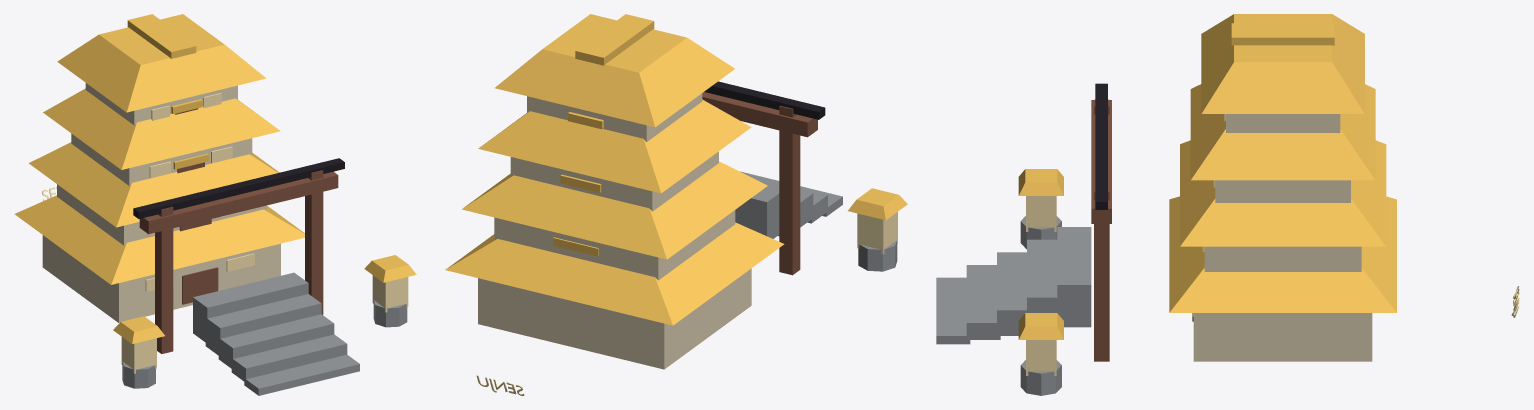
The model's file is 03_senju.glb.
3 views of the same model, side by side, from view 1: azimuth 30°, elevation 25°; view 2: azimuth 150°, elevation 25°; view 3: azimuth 270°, elevation 25° (orthographic). The views are drawn at different scales.
Parts seen in each view (by area): view 1: tier_3_roof, tier_0_roof.001, tier_2_roof.001, tier_1_roof.001, tier_0_body.001, torii_beam.002, stairs_4.002, stairs_3.002, stairs_2.002, stairs_1.002, torii_lintel.002, torii_post_L.002 (+14 smaller); view 2: tier_0_roof.001, tier_3_roof, tier_1_roof.001, tier_2_roof.001, tier_0_body.001, tier_1_body.001, torii_post_L.002, tier_2_body.001, tier_3_ridge, torii_beam.002, tier_3_body, stairs_4.002 (+9 smaller); view 3: tier_3_roof, tier_0_roof.001, tier_1_roof.001, tier_2_roof.001, tier_0_body.001, tier_1_body.001, stairs_4.002, tier_2_body.001, stairs_1.002, tier_3_ridge, stairs_2.002, stairs_3.002 (+11 smaller).
Part boxes in pixels (x1=…): tier_3_roof: x1=57, y1=14, x2=266, y2=112; tier_0_roof.001: x1=14, y1=195, x2=304, y2=284; tier_2_roof.001: x1=43, y1=88, x2=280, y2=169; tier_1_roof.001: x1=29, y1=142, x2=279, y2=227; tier_0_body.001: x1=42, y1=235, x2=280, y2=322; torii_beam.002: x1=139, y1=171, x2=338, y2=234; stairs_4.002: x1=193, y1=272, x2=308, y2=343; stairs_3.002: x1=205, y1=294, x2=321, y2=356; stairs_2.002: x1=218, y1=314, x2=334, y2=369; stairs_1.002: x1=231, y1=334, x2=347, y2=382; torii_lintel.002: x1=133, y1=158, x2=344, y2=218; torii_post_L.002: x1=155, y1=207, x2=173, y2=353; tier_0_roof.001: x1=445, y1=222, x2=784, y2=325; tier_3_roof: x1=494, y1=14, x2=734, y2=127; tier_1_roof.001: x1=462, y1=161, x2=767, y2=259; tier_2_roof.001: x1=478, y1=99, x2=751, y2=193; tier_0_body.001: x1=478, y1=268, x2=751, y2=369; tier_1_body.001: x1=494, y1=210, x2=735, y2=280; torii_post_L.002: x1=779, y1=105, x2=800, y2=275; tier_2_body.001: x1=510, y1=151, x2=718, y2=211; tier_3_ridge: x1=575, y1=14, x2=654, y2=65; torii_beam.002: x1=702, y1=92, x2=817, y2=137; tier_3_body: x1=527, y1=93, x2=702, y2=141; stairs_4.002: x1=735, y1=186, x2=779, y2=238; tier_3_roof: x1=1201, y1=14, x2=1364, y2=113; tier_0_roof.001: x1=1169, y1=196, x2=1396, y2=312; tier_1_roof.001: x1=1180, y1=140, x2=1386, y2=246; tier_2_roof.001: x1=1190, y1=84, x2=1375, y2=180; tier_0_body.001: x1=1193, y1=313, x2=1372, y2=361; tier_1_body.001: x1=1204, y1=246, x2=1361, y2=271; stairs_4.002: x1=1057, y1=227, x2=1091, y2=327; tier_2_body.001: x1=1215, y1=180, x2=1350, y2=202; stairs_1.002: x1=966, y1=265, x2=1000, y2=339; tier_3_ridge: x1=1231, y1=23, x2=1334, y2=45; stairs_2.002: x1=997, y1=252, x2=1030, y2=335; stairs_3.002: x1=1027, y1=239, x2=1060, y2=316.
Bounding box in the file's own units: 7.86 × 6.4 × 11.88.
